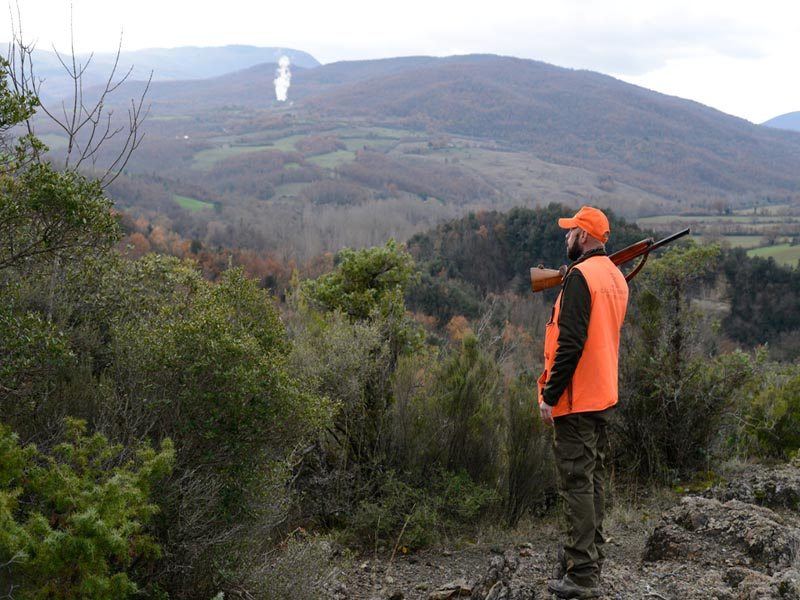cacciatore: (516, 204, 646, 595)
